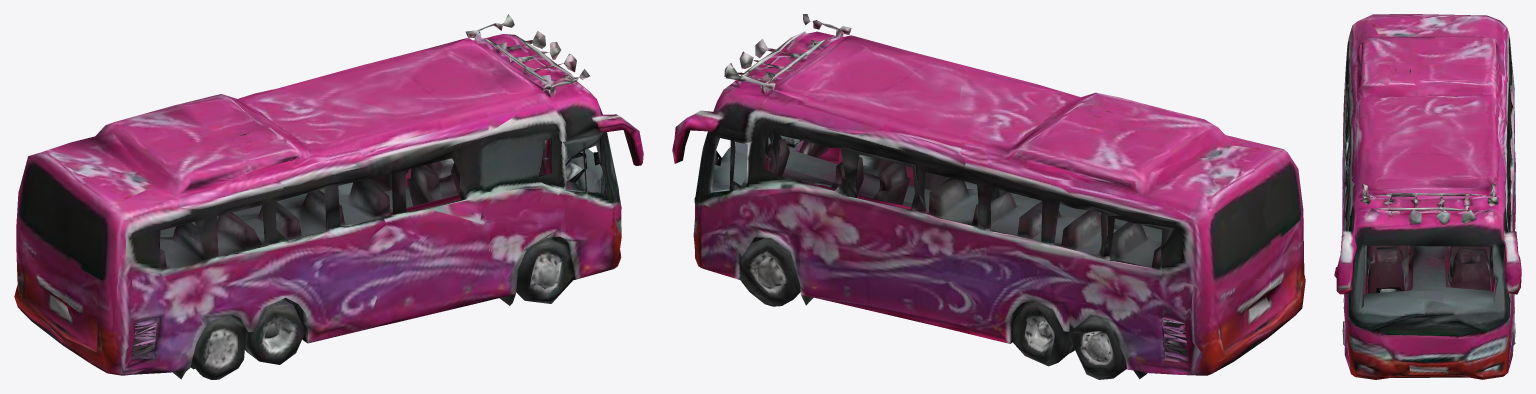
Rendered from pink_1.glb.
3 views of the same model, side by side, from view 1: azimuth 30°, elevation 25°; view 2: azimuth 150°, elevation 25°; view 3: azimuth 270°, elevation 25° (orthographic). The views are drawn at different scales.
Parts seen in each view (by area): view 1: tripo_node_097b1cc8-ca91-4cbd-a672-da3f293bc084; view 2: tripo_node_097b1cc8-ca91-4cbd-a672-da3f293bc084; view 3: tripo_node_097b1cc8-ca91-4cbd-a672-da3f293bc084.
Boxes of the visible parts, x1,y1,x2,y2 form: tripo_node_097b1cc8-ca91-4cbd-a672-da3f293bc084: (14, 14, 643, 379); tripo_node_097b1cc8-ca91-4cbd-a672-da3f293bc084: (672, 14, 1305, 379); tripo_node_097b1cc8-ca91-4cbd-a672-da3f293bc084: (1334, 14, 1521, 379).
Size of the model in its own units: 0.9984 by 0.3844 by 0.3534.
Materials: 1 (1 with a texture image).
